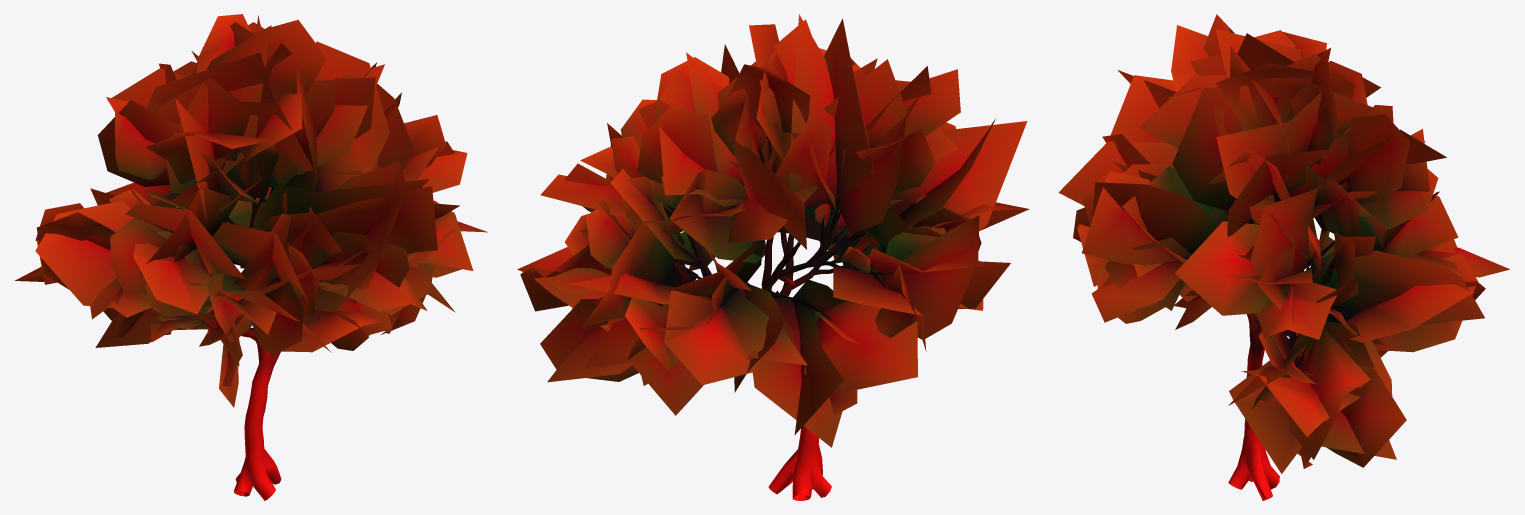
File: ShrubTree(NR)_A.fbx
The picture shows the model from 3 angles, left to right: view 1: azimuth 30°, elevation 25°; view 2: azimuth 150°, elevation 25°; view 3: azimuth 270°, elevation 25°; orthographic projection. The views are drawn at different scales.
Visible parts, largest first — view 1: ShrubTree(NR)_A_Leaves_LOD0, ShrubTree(NR)_A_Bark_LOD0; view 2: ShrubTree(NR)_A_Leaves_LOD0, ShrubTree(NR)_A_Bark_LOD0; view 3: ShrubTree(NR)_A_Leaves_LOD0, ShrubTree(NR)_A_Bark_LOD0.
Part boxes in pixels (<box>): ShrubTree(NR)_A_Leaves_LOD0: <box>15,14,487,407</box>; ShrubTree(NR)_A_Bark_LOD0: <box>187,187,281,500</box>; ShrubTree(NR)_A_Leaves_LOD0: <box>517,14,1029,447</box>; ShrubTree(NR)_A_Bark_LOD0: <box>667,154,881,500</box>; ShrubTree(NR)_A_Leaves_LOD0: <box>1058,14,1509,473</box>; ShrubTree(NR)_A_Bark_LOD0: <box>1182,151,1387,500</box>.
Size of what is drawn, in the model's own units: 7.32 by 6.98 by 6.19.
